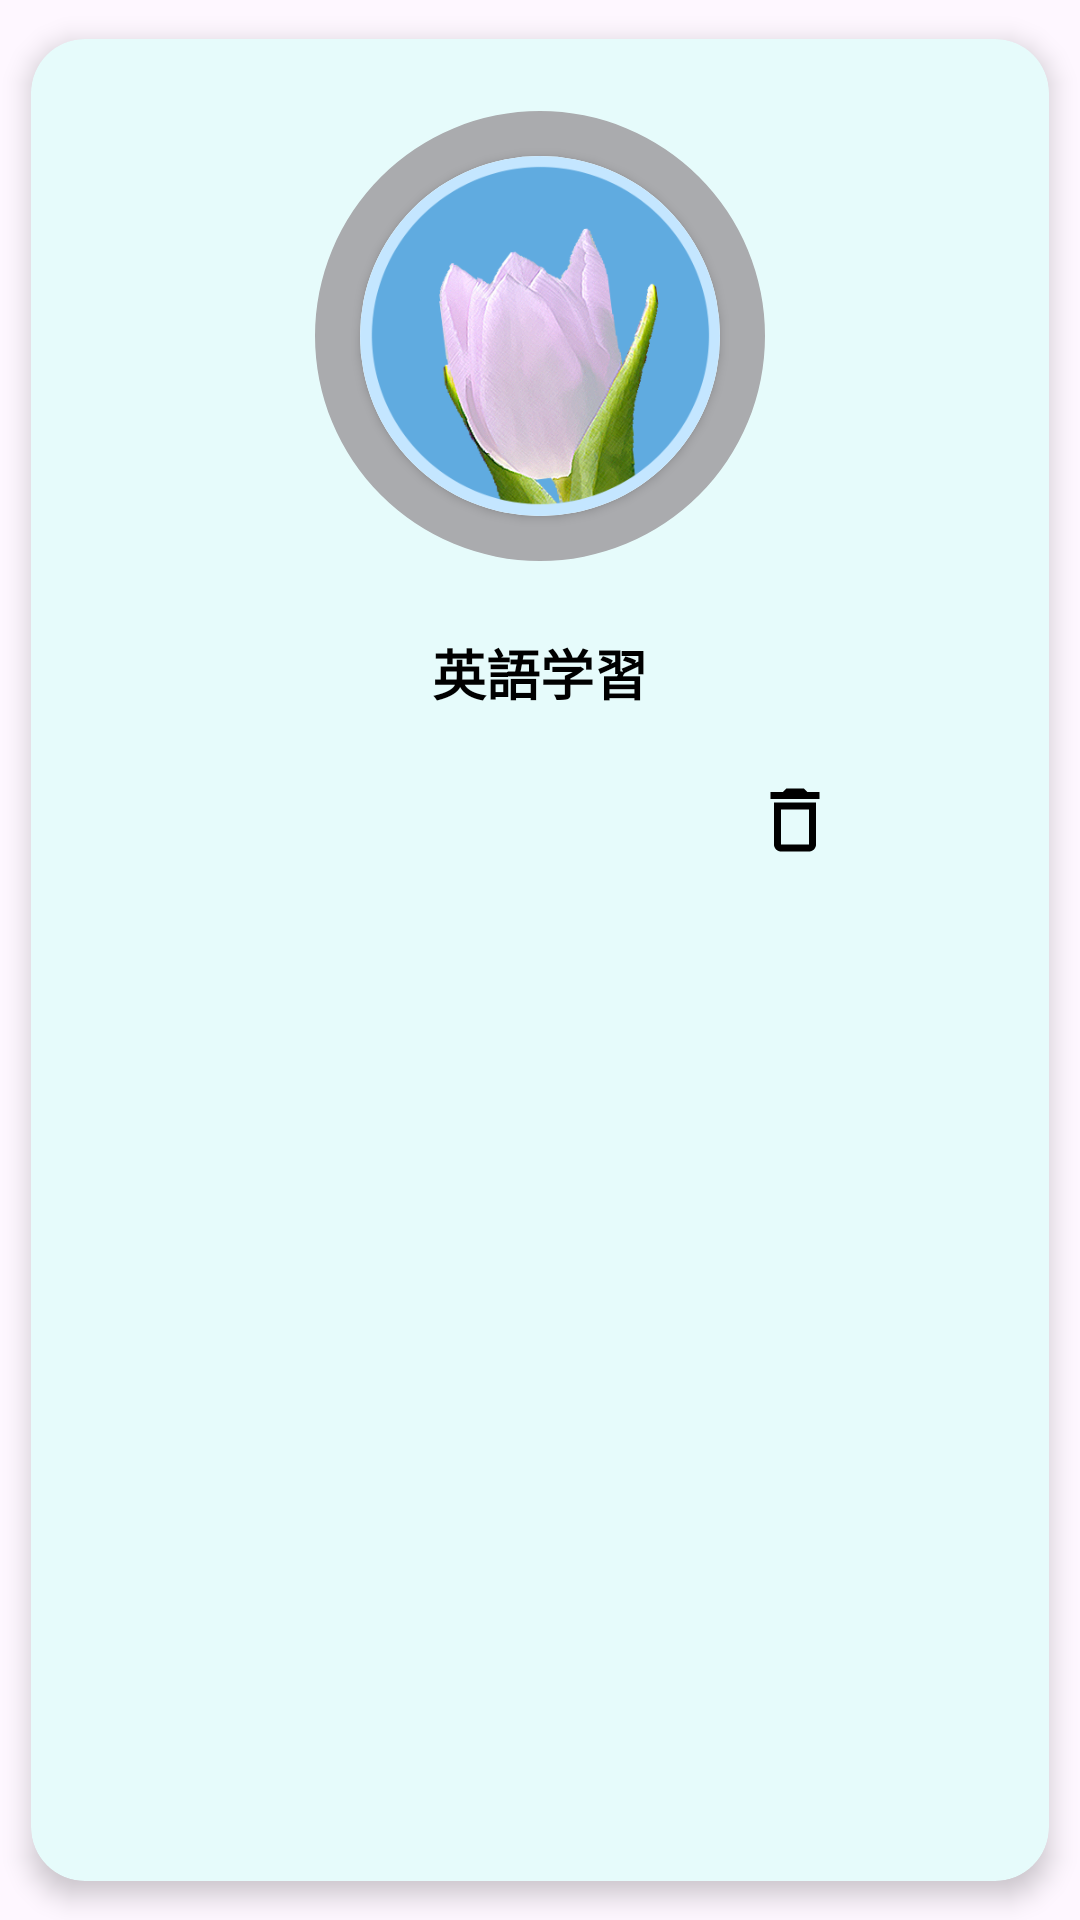

Where icons sit on this 1080x1920 app screen, as [x1,y1,x2,y2]:
Delete the habit: [770,788,820,852]
